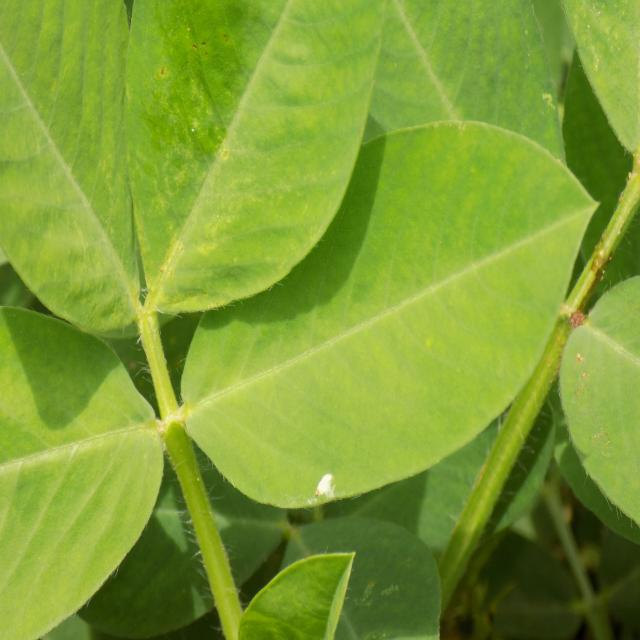Ground nut_healthy: (178, 123, 604, 510)
